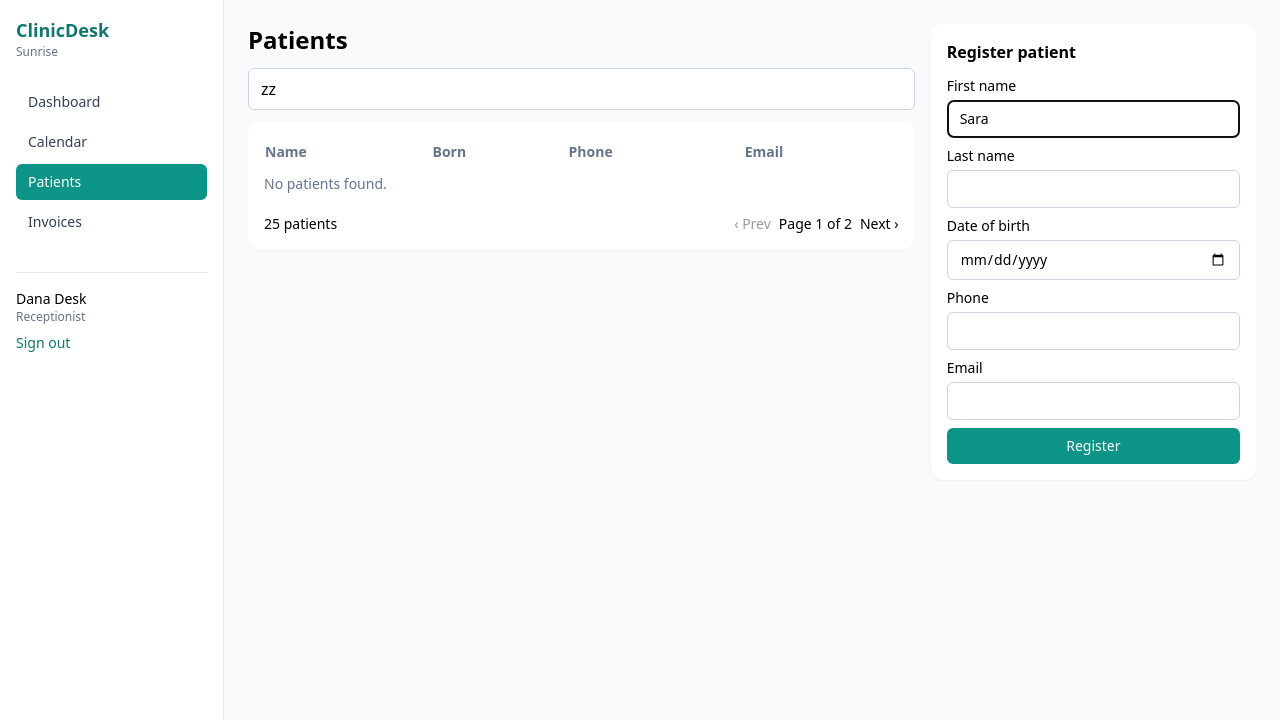
Test case: patients › searches, pages and registers patients
Earlier steps of the test are not shown.
In the field labelled "Last name": (1093, 189) [947,170,1240,208], type "Khan"
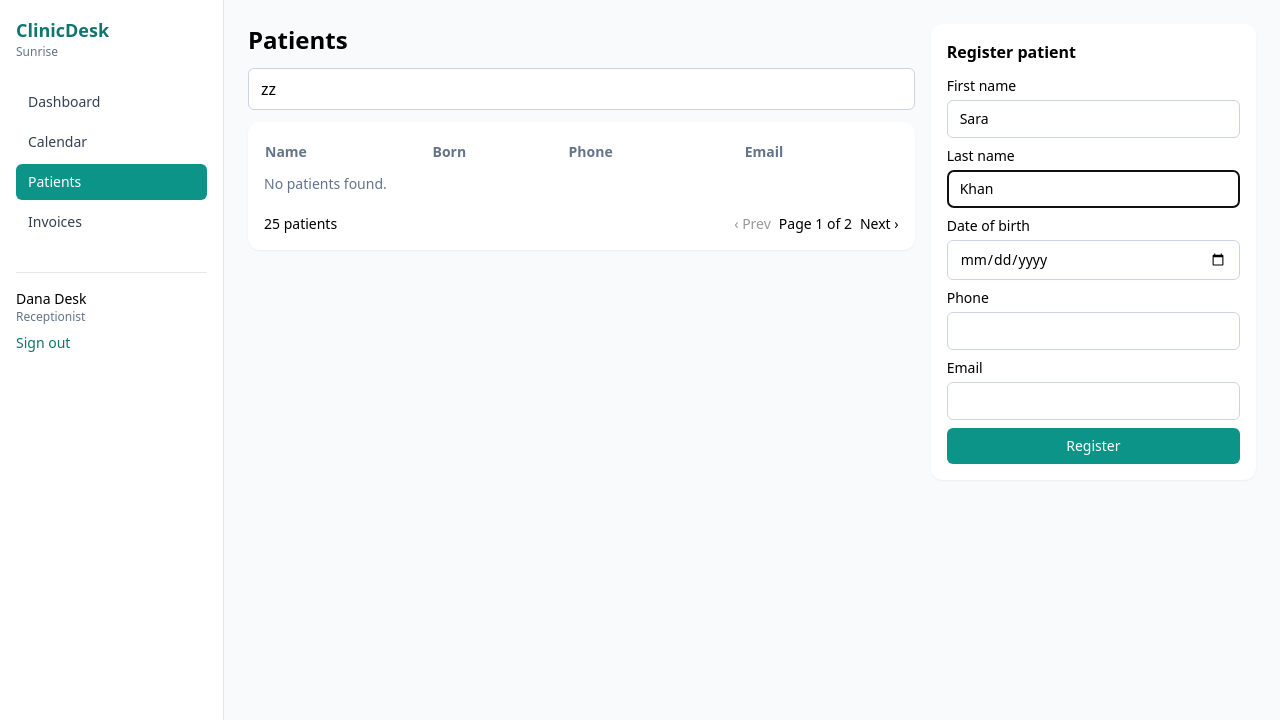
In the date field labelled "Date of birth": (1093, 260) [947,240,1240,280], type "1990-02-03"
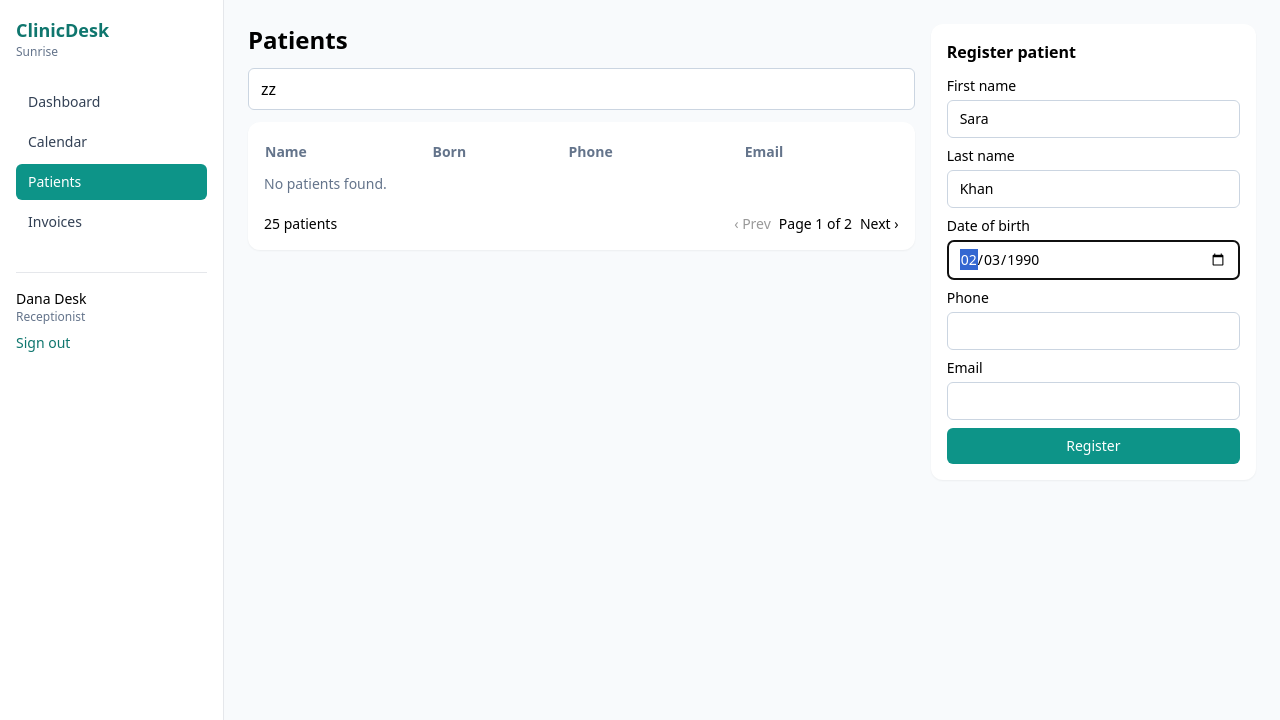
In the field labelled "Phone": (1093, 331) [947,312,1240,350], type "bad"
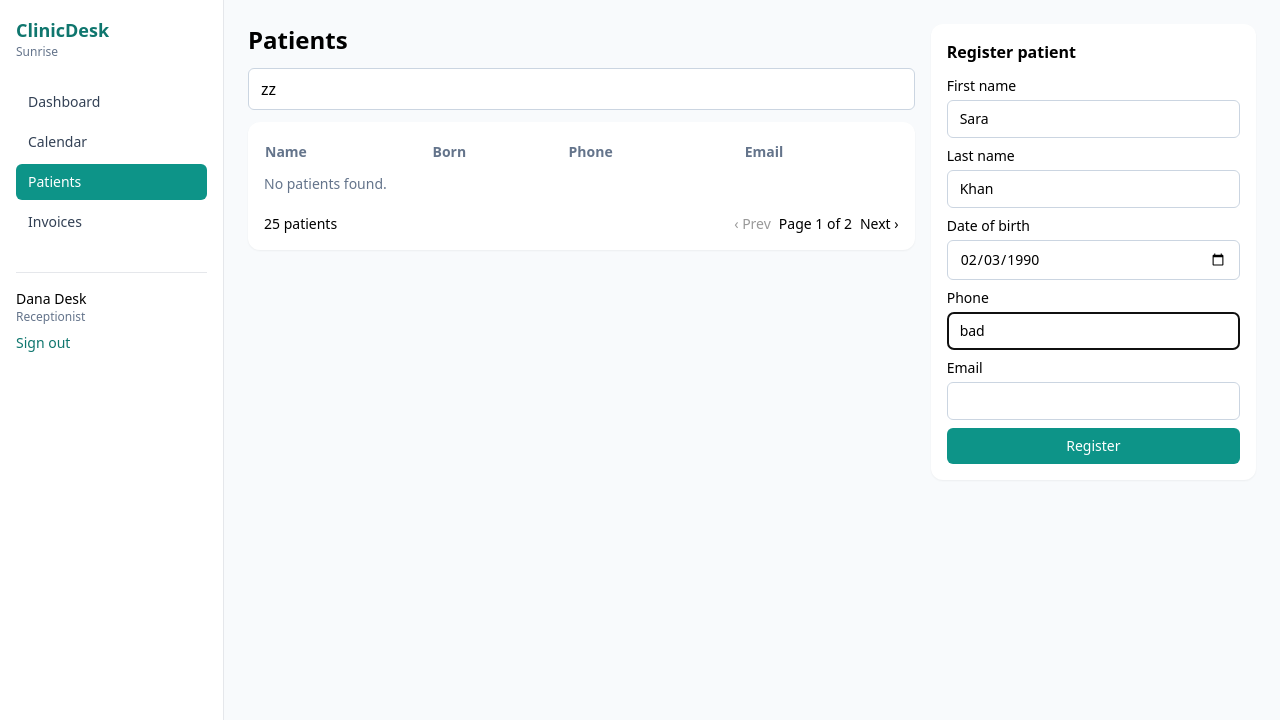
Click the button "Register": (1093, 446) [947,428,1240,464]
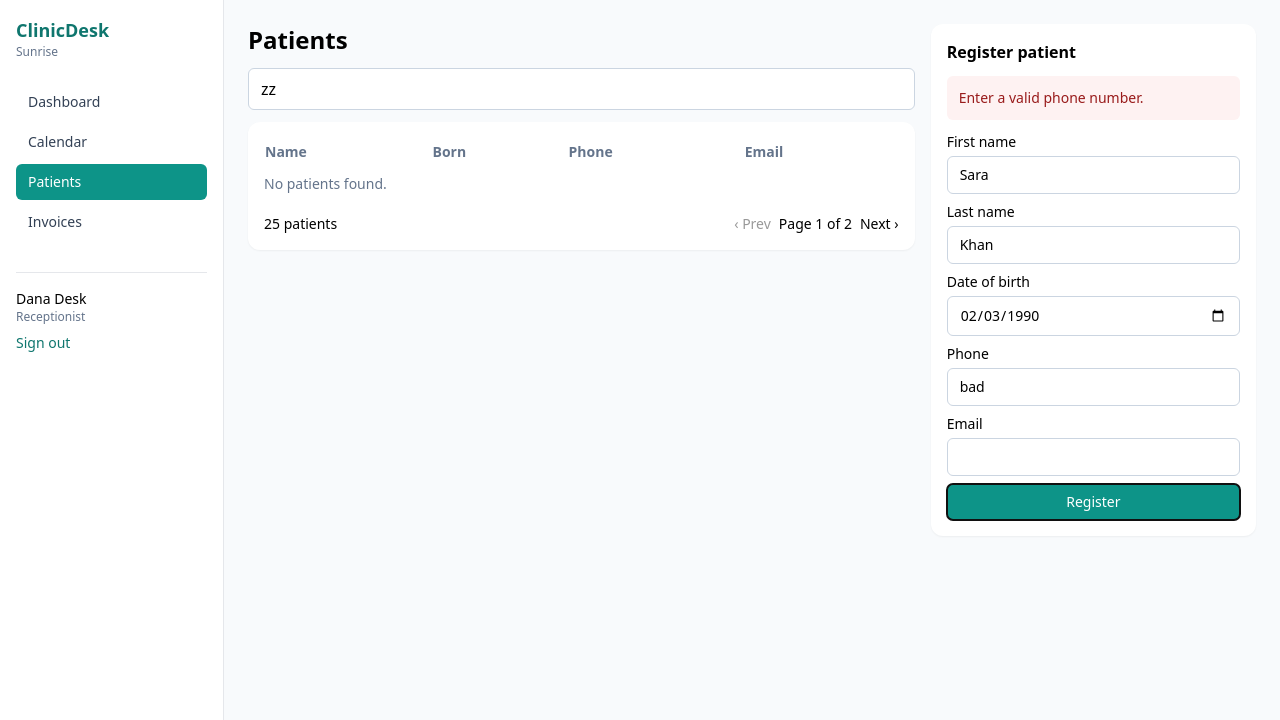
Expected: the message shows "valid phone", [959,88,1144,107]
Replace the text in the field labelled "Phone" with "+92 300 1234567": (1093, 387) [947,368,1240,406]
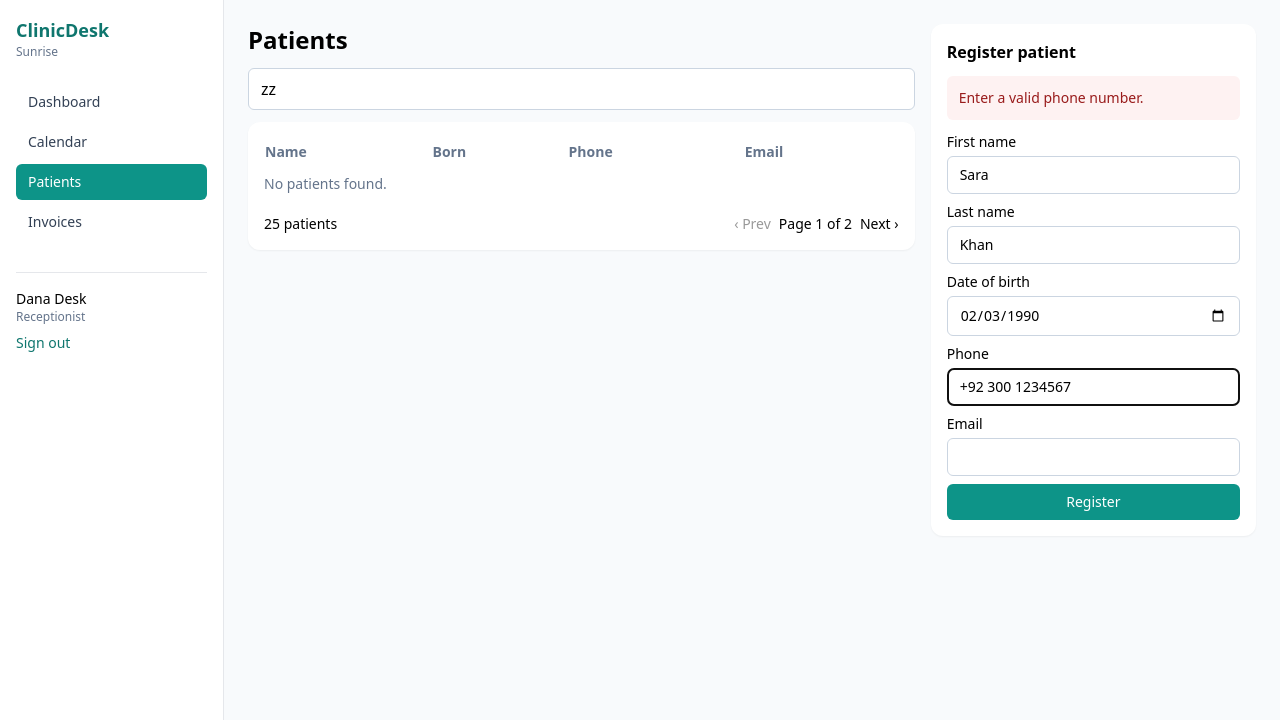
Click the button "Register": (1093, 502) [947,484,1240,520]
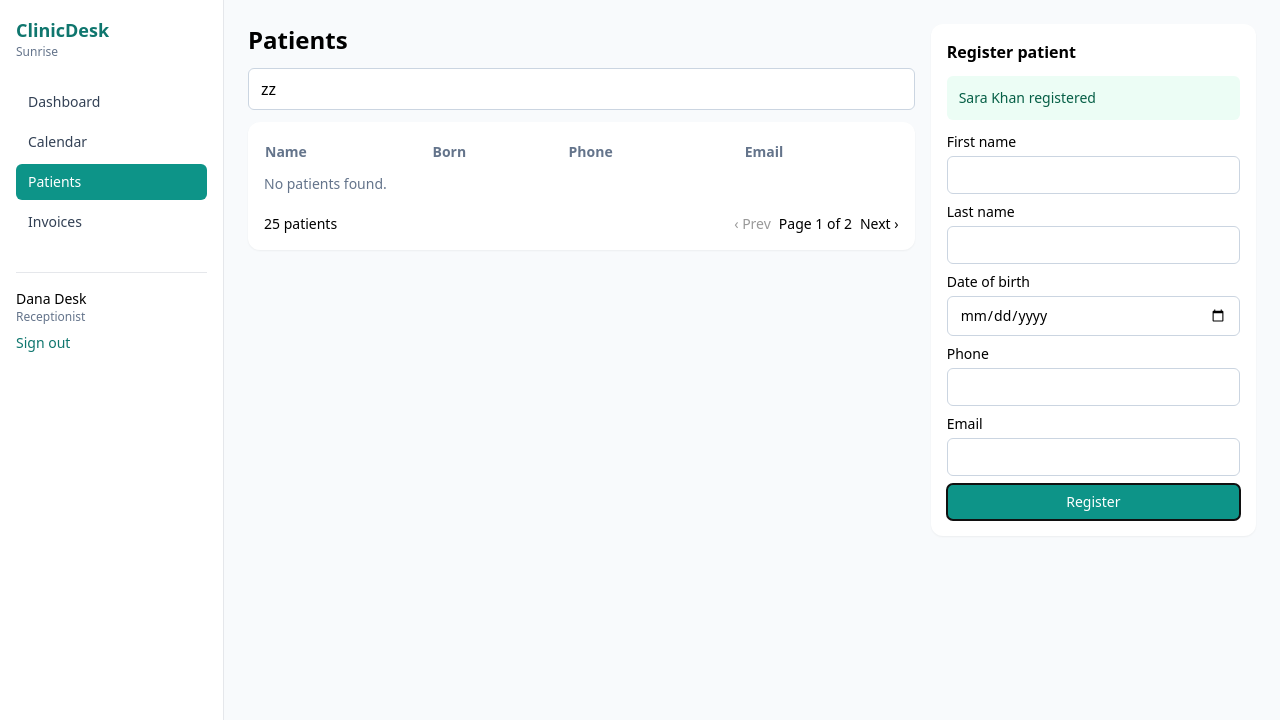
Expected: the message reads "Sara Khan registered", [959,88,1096,107]
